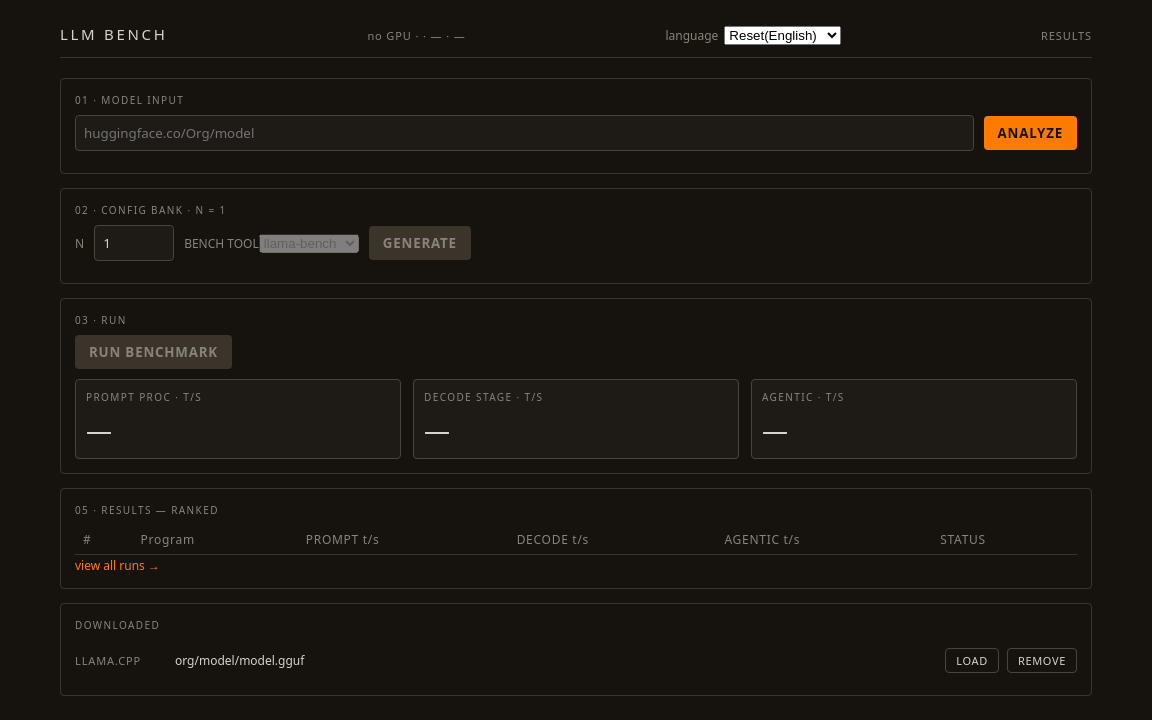
Test: LOAD on a downloaded gguf row fills MODEL INPUT and analyzes the file-qualified ref
Check: the text "org/model/model.gguf" is shown, box [175,652,304,669]
Click the button "LOAD": (972, 660) [945,648,999,673]
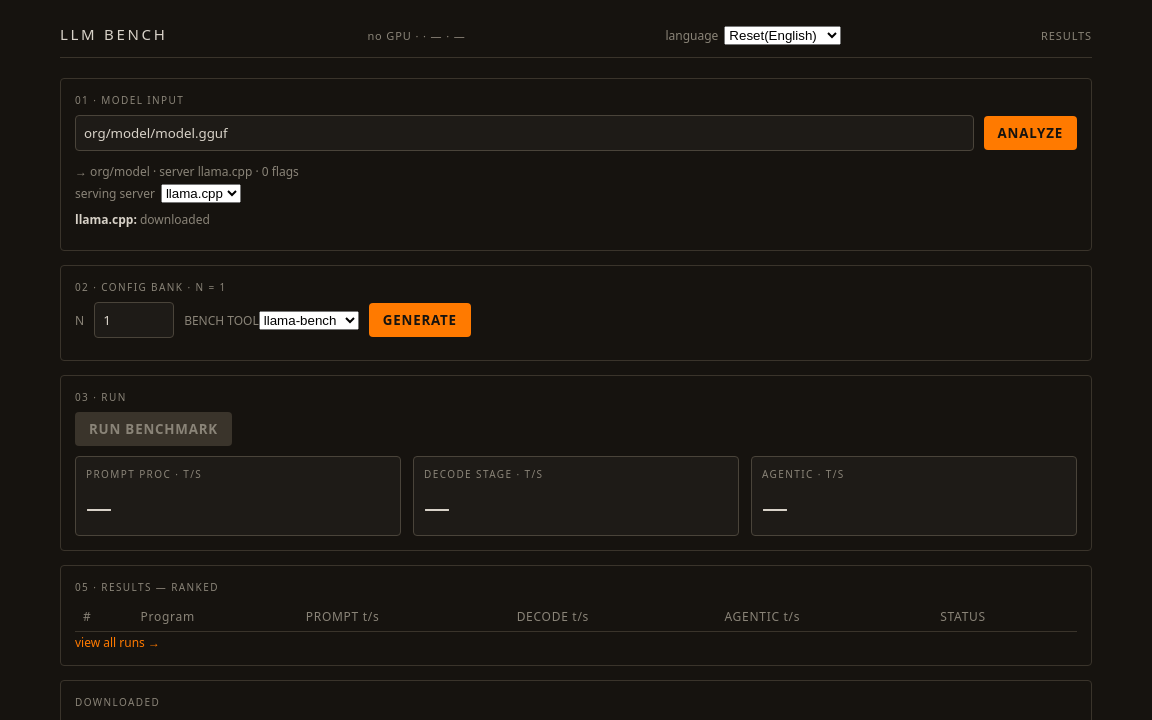
Check: the field with placeholder "huggingface.co/Org/model" holds "org/model/model.gguf", box [75,115,974,151]
